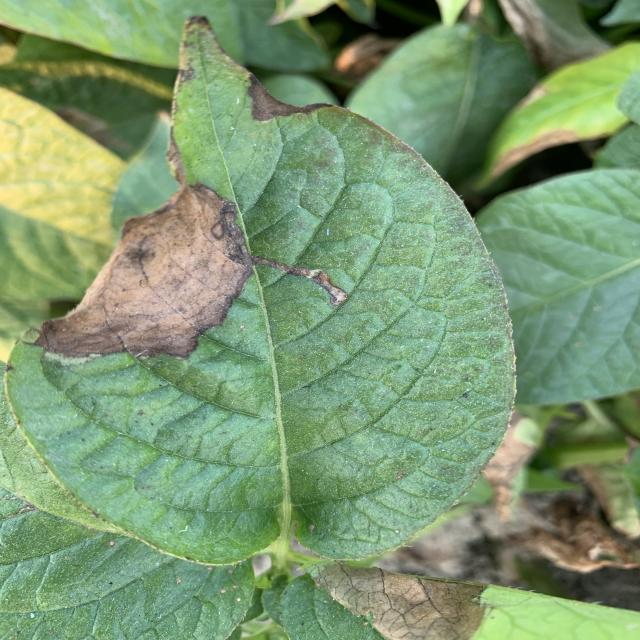lateblight: (37, 159, 253, 358), (252, 256, 348, 306), (247, 74, 330, 121)
